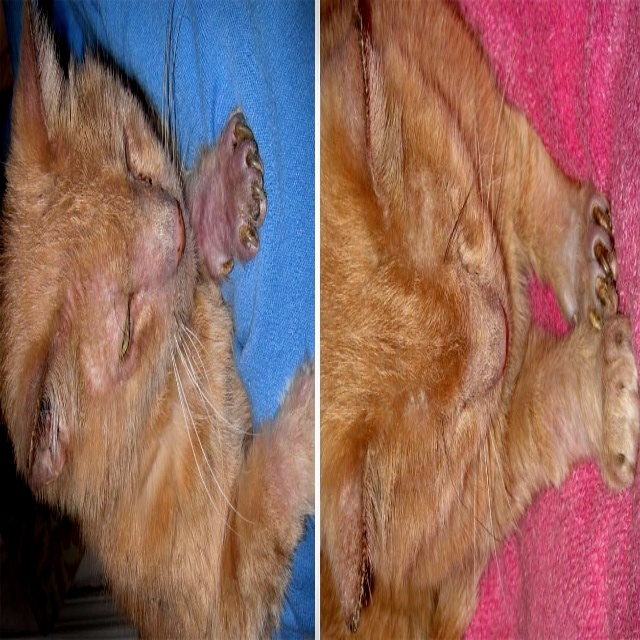ringworm: (202, 131, 237, 259), (84, 261, 117, 383)
